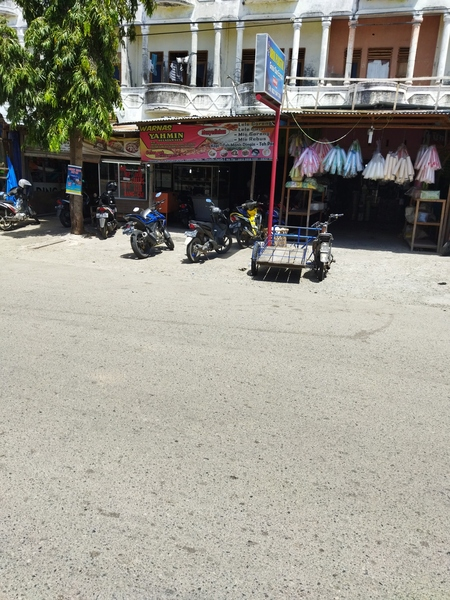becak barang: (251, 216, 336, 287)
motorcycle: (183, 210, 232, 272), (125, 206, 175, 259), (93, 198, 120, 241)
